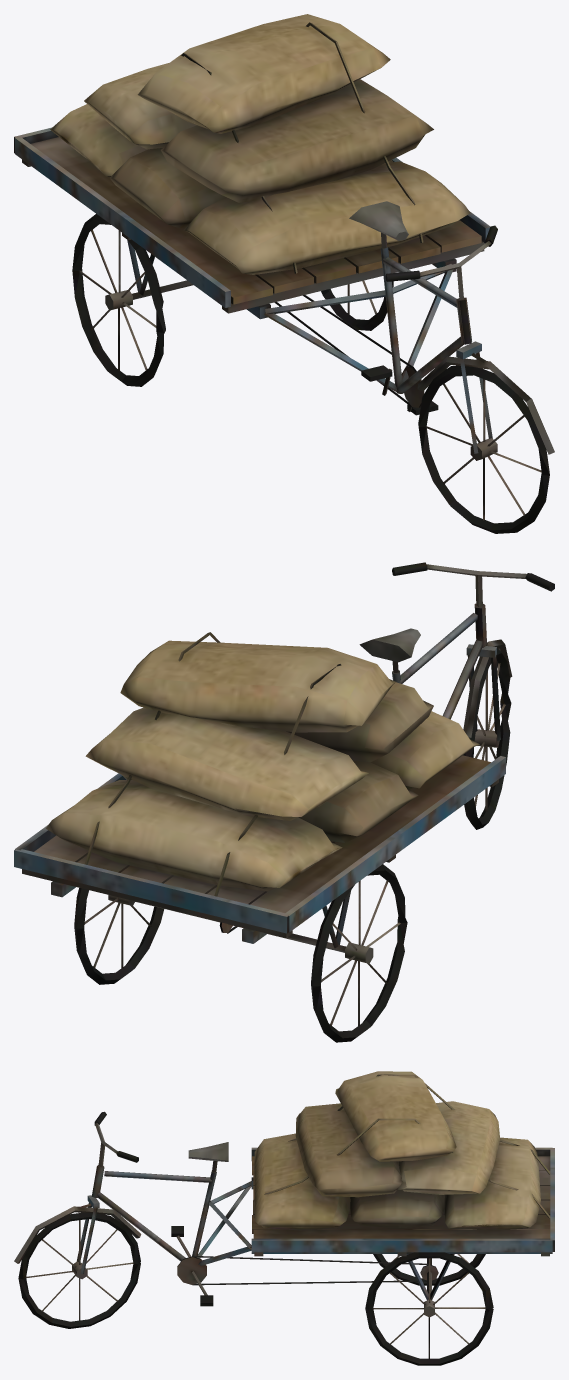
The model's file is van_cart.glb.
3 renders of one model, top to bottom at view 1: azimuth 30°, elevation 25°; view 2: azimuth 150°, elevation 25°; view 3: azimuth 270°, elevation 25°, orthographic. The views are drawn at different scales.
Parts seen in each view (by area): view 1: body; view 2: body; view 3: body.
Boxes of the visible parts, left/top/right/bottom form: body: left=14, top=14, right=554, bottom=533; body: left=14, top=562, right=554, bottom=1042; body: left=14, top=1071, right=554, bottom=1365.
Bounding box in the file's own units: 1.2 × 1.41 × 2.96.
1 material, 1 textured.
